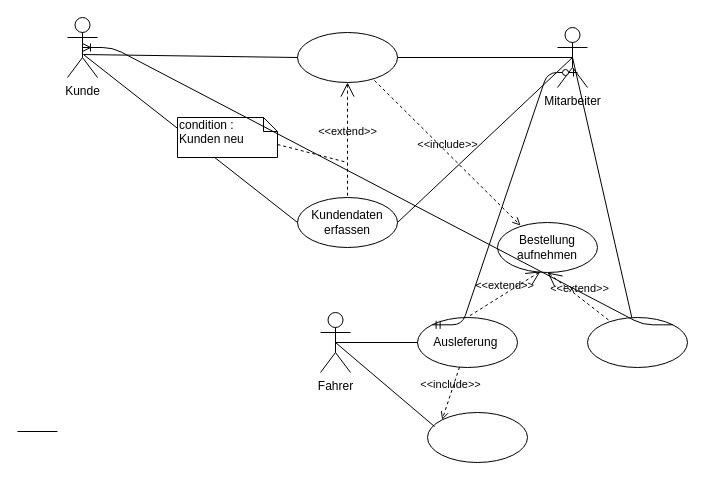
The diagram is 705 pixels wide and 480 high, and some of its shapes have lost their labels. Each missing label, with the centre of its shape:
Bestellanruf: (347,57)
Selbabholung: (637,342)
SMS senden: (477,437)
